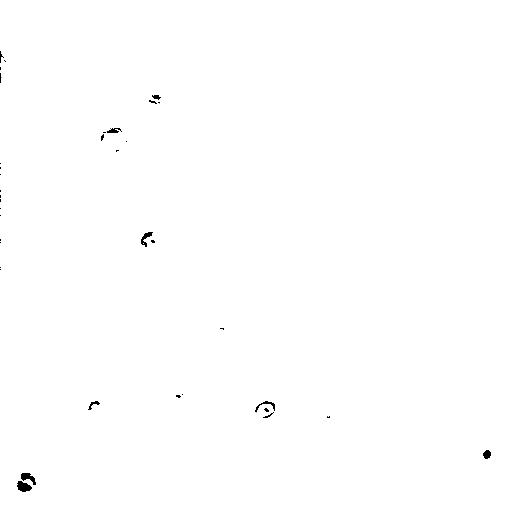micro-algae: (145, 434, 198, 491), (10, 463, 46, 498), (468, 435, 501, 470), (98, 123, 129, 153), (134, 225, 166, 254), (82, 393, 113, 421), (168, 391, 197, 413), (254, 400, 276, 418), (0, 49, 11, 77)
